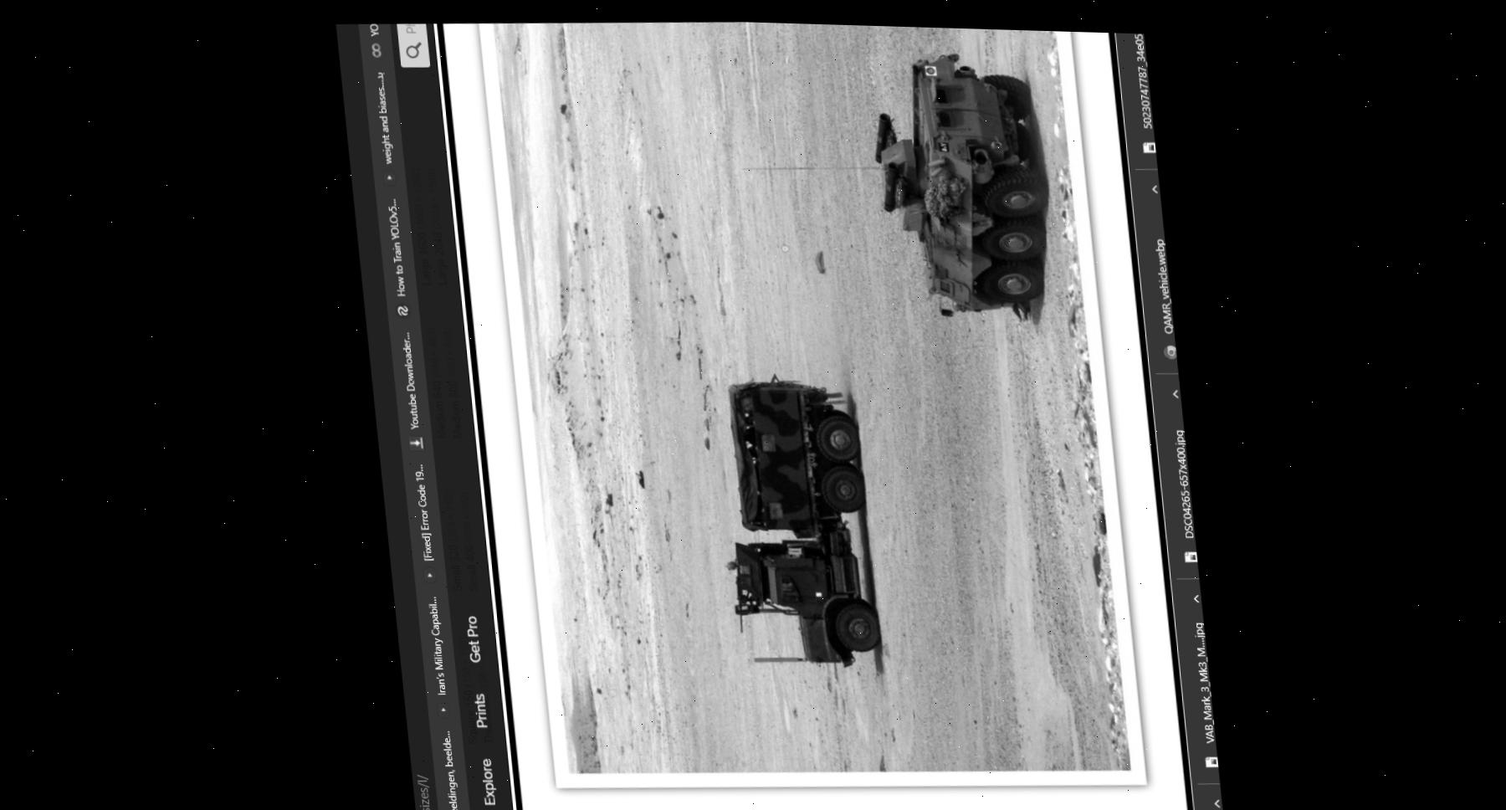armored_car: (870, 46, 1061, 329)
truck: (706, 370, 886, 673)
